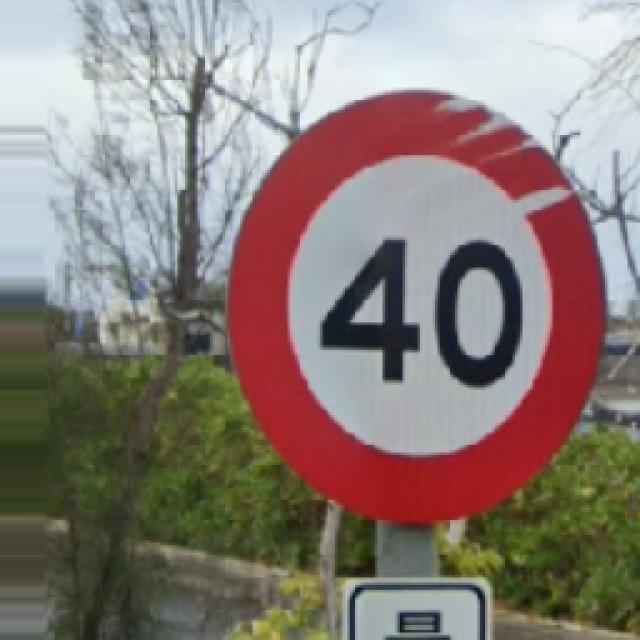Speed Limit -40-: (230, 92, 605, 522)
